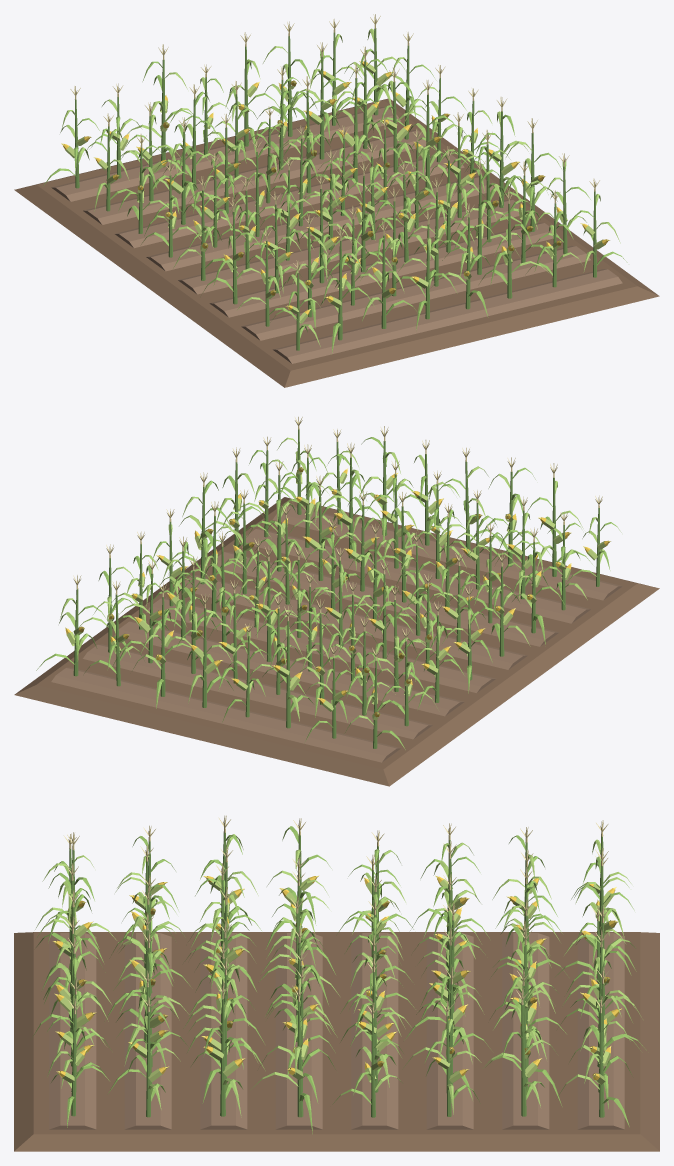
Rendered from maize_field_8x8.glb.
The picture shows the model from 3 angles, top to bottom: view 1: azimuth 30°, elevation 25°; view 2: azimuth 150°, elevation 25°; view 3: azimuth 270°, elevation 25°; orthographic projection. The views are drawn at different scales.
Parts seen in each view (by area): view 1: MaizeField; view 2: MaizeField; view 3: MaizeField.
Part boxes in pixels (bbox=[...]): MaizeField: bbox=[14, 14, 659, 387]; MaizeField: bbox=[14, 416, 659, 786]; MaizeField: bbox=[14, 815, 659, 1151].
Bounding box in the file's own units: 9.25 × 3.12 × 11.55.
